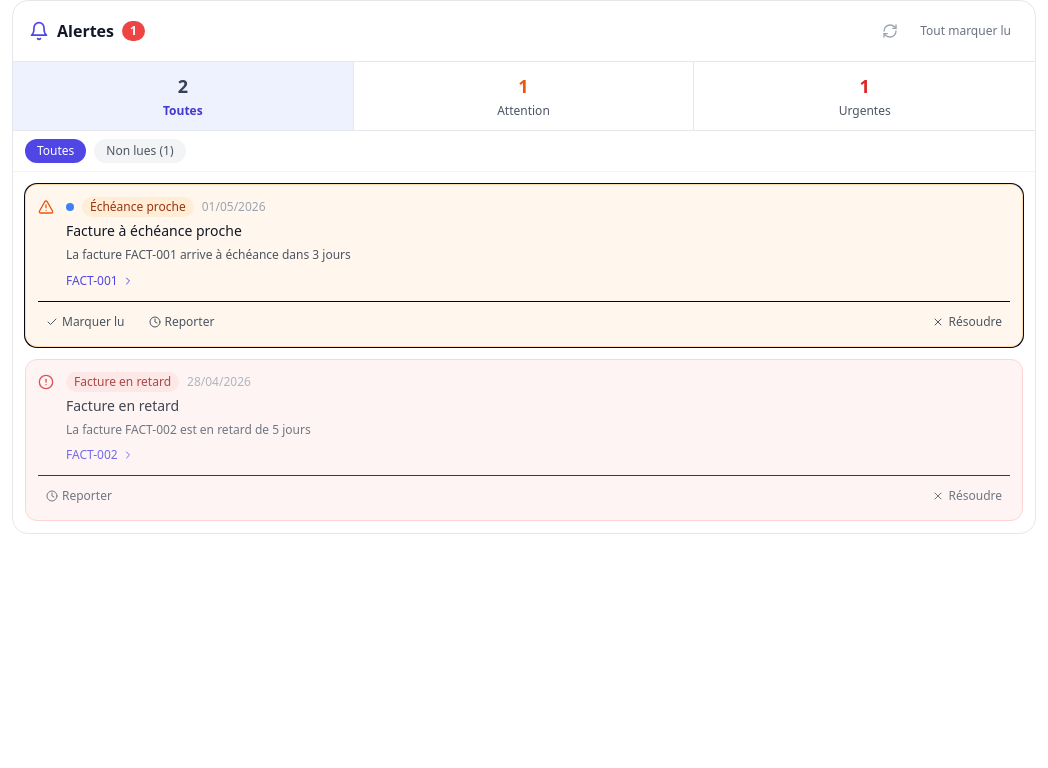
Test: AlertsPanel › should show snooze options
Click the button "Reporter" below "Facture à échéance proche" at coordinates (181, 322), box x1=140 y1=310 x2=222 y2=334
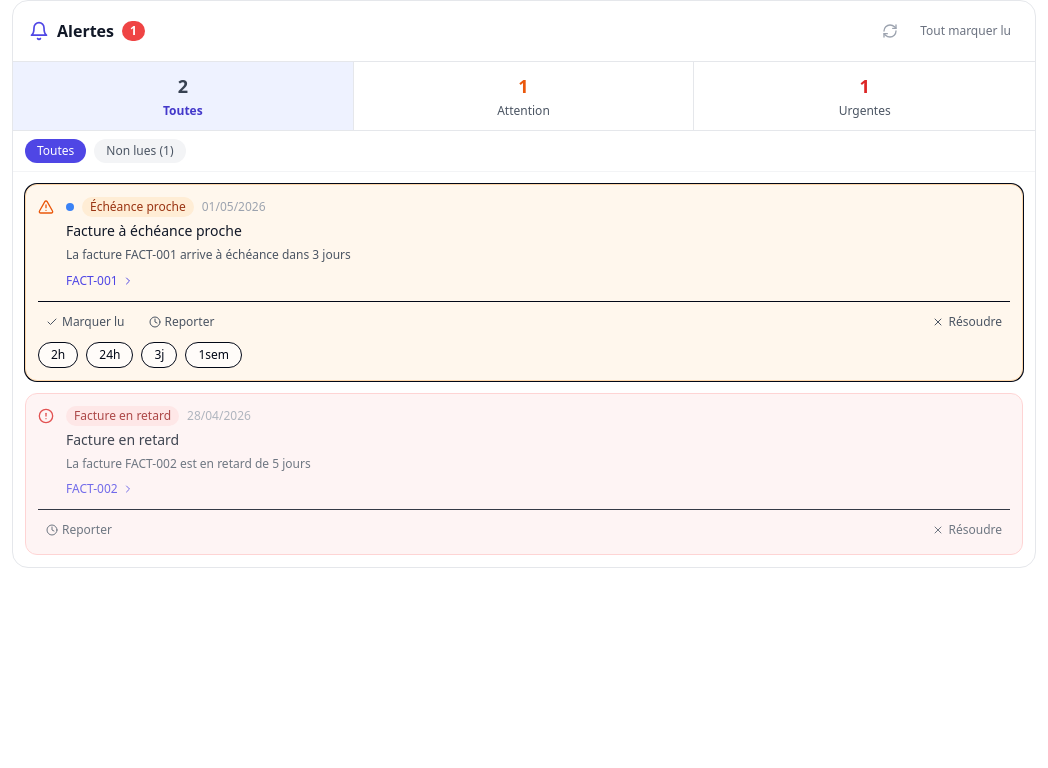
Expected: the button "2h" is shown, x1=38 y1=342 x2=78 y2=368
Expected: the button "24h" is shown, x1=86 y1=342 x2=134 y2=368
Expected: the button "3j" is shown, x1=141 y1=342 x2=177 y2=368
